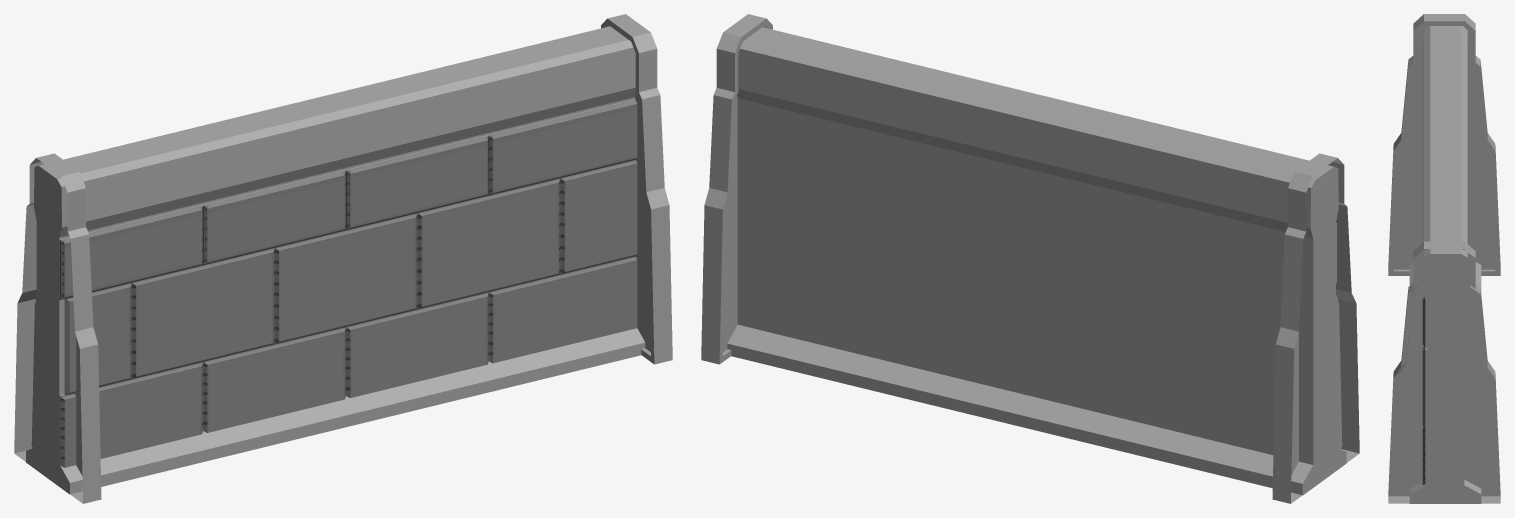
Rendered from Wall_New_CR.fbx.
3 renders of one model, left to right at view 1: azimuth 30°, elevation 25°; view 2: azimuth 150°, elevation 25°; view 3: azimuth 270°, elevation 25°, orthographic. The views are drawn at different scales.
Visible parts, largest first — view 1: pCube33; view 2: pCube33; view 3: pCube33.
Part boxes in pixels (bbox=[...]): pCube33: bbox=[14, 14, 672, 503]; pCube33: bbox=[701, 14, 1359, 503]; pCube33: bbox=[1388, 14, 1500, 503].
Size of the model in its own units: 10.82 by 5.47 by 2.19.
Materials: 3 (1 with a texture image).
